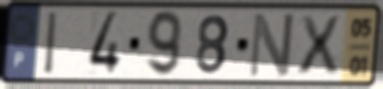4: (85, 8, 124, 79)
8: (194, 13, 230, 77)
9: (144, 9, 185, 79)
I: (42, 9, 60, 77)
N: (246, 10, 297, 81)
X: (295, 14, 342, 78)
